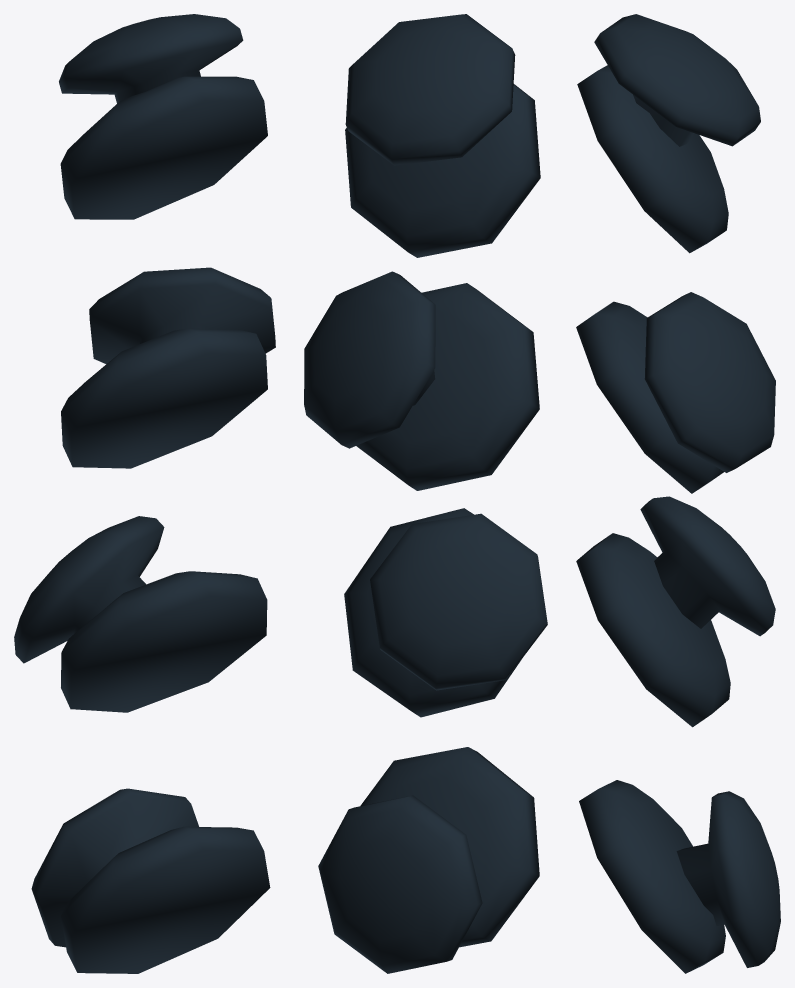
Rendered from Botones.fbx.
The picture shows the model from 3 angles, left to right: view 1: azimuth 30°, elevation 25°; view 2: azimuth 150°, elevation 25°; view 3: azimuth 270°, elevation 25°; orthographic projection. The views are drawn at different scales.
Parts seen in each view (by area): view 1: Cylinder.001; view 2: Cylinder.001; view 3: Cylinder.001.
Part boxes in pixels (bbox=[...]): Cylinder.001: bbox=[14, 14, 275, 973]; Cylinder.001: bbox=[304, 14, 547, 973]; Cylinder.001: bbox=[576, 14, 780, 973].
Size of the model in its own units: 0.4326 by 1.58 by 0.313.
